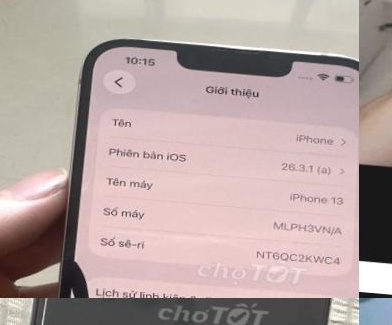scratch: (29, 298, 54, 325)
screen_defect: (32, 245, 125, 298)
